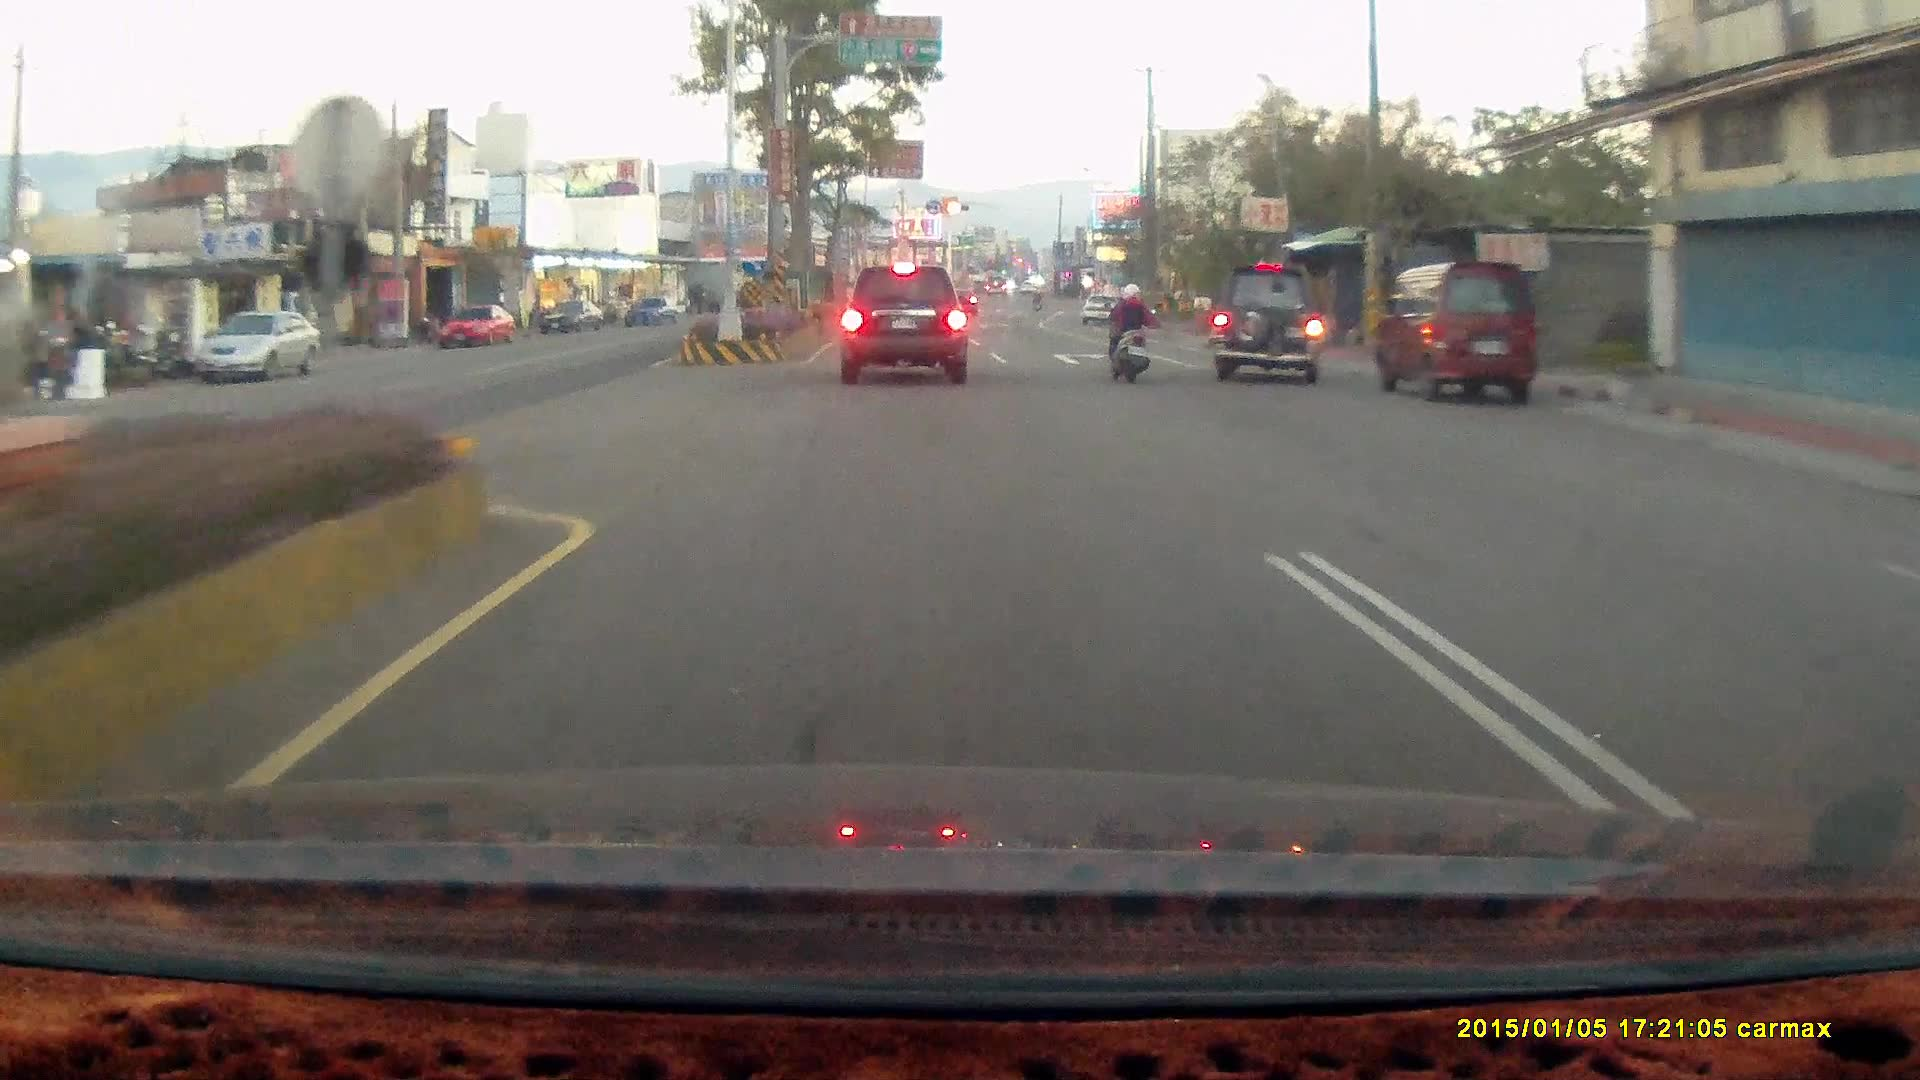pedestrian: (61, 308, 92, 381)
rider: (1105, 282, 1152, 386)
vehicle: (1369, 260, 1540, 406), (1380, 262, 1544, 408), (839, 263, 968, 384), (1209, 266, 1336, 386), (1209, 261, 1327, 381), (194, 309, 322, 387), (193, 309, 320, 383), (1896, 493, 1920, 836), (1883, 528, 1920, 690), (435, 305, 519, 350), (435, 303, 516, 348), (1080, 293, 1122, 324)
